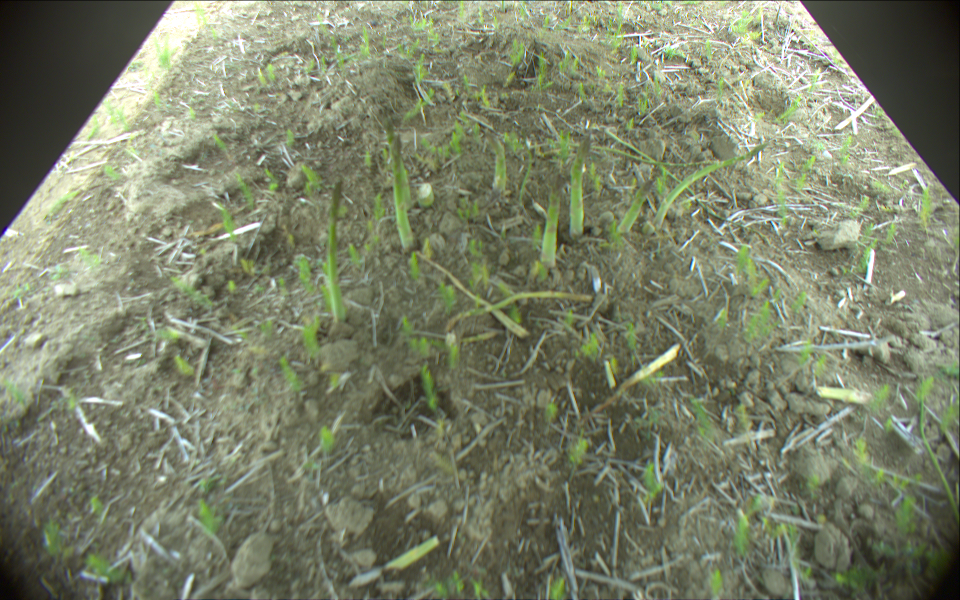aspa: (610, 130, 744, 227), (414, 252, 526, 337), (654, 143, 764, 226), (916, 381, 958, 521), (447, 292, 594, 330), (532, 140, 730, 164), (618, 165, 662, 233), (327, 179, 347, 322), (391, 136, 415, 252), (569, 130, 591, 239), (481, 126, 508, 198), (540, 185, 563, 268), (388, 537, 439, 571), (814, 387, 872, 406)
